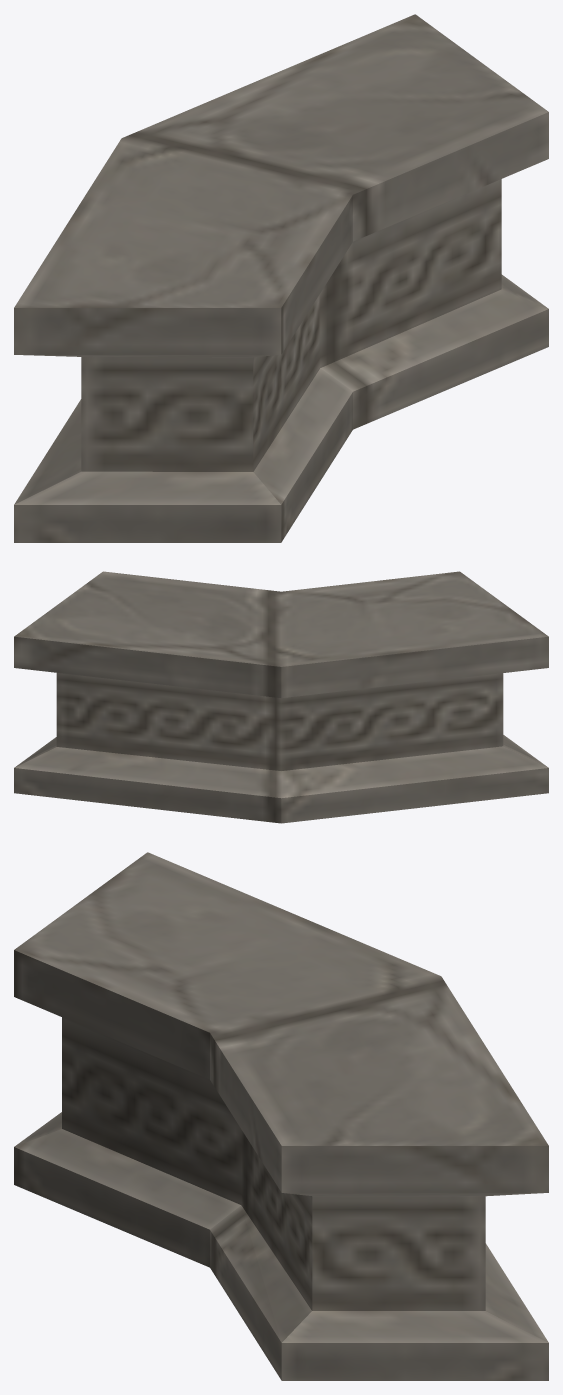
File: ruin_pillar_5.FBX
3 views of the same model, one above another, from view 1: azimuth 30°, elevation 25°; view 2: azimuth 150°, elevation 25°; view 3: azimuth 270°, elevation 25° (orthographic). The views are drawn at different scales.
Visible parts, largest first — view 1: Object029; view 2: Object029; view 3: Object029.
Part boxes in pixels (<box>): Object029: <box>14,14,548,542</box>; Object029: <box>14,571,548,823</box>; Object029: <box>14,852,548,1380</box>.
Size of the model in its own units: 2.23 by 0.8331 by 1.72.
